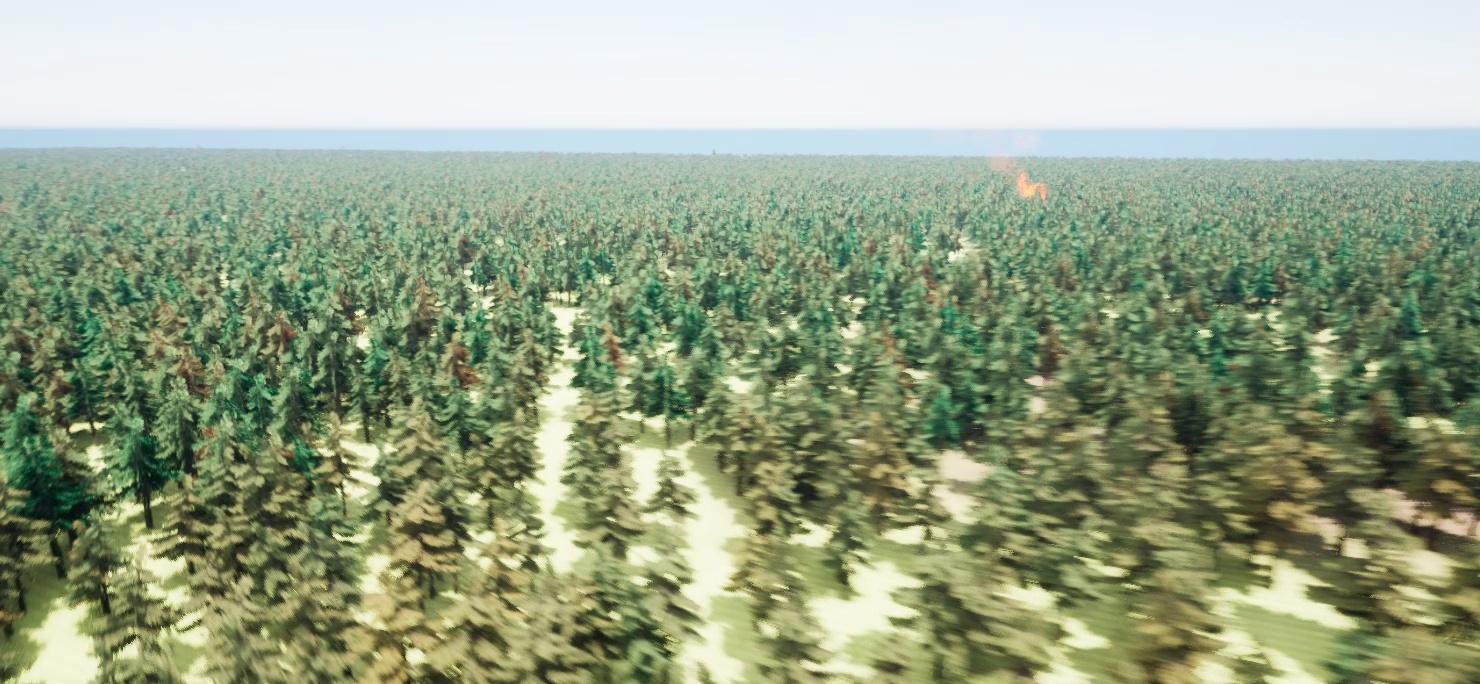fire: (1013, 175, 1054, 202)
smoke: (980, 121, 1033, 180)
